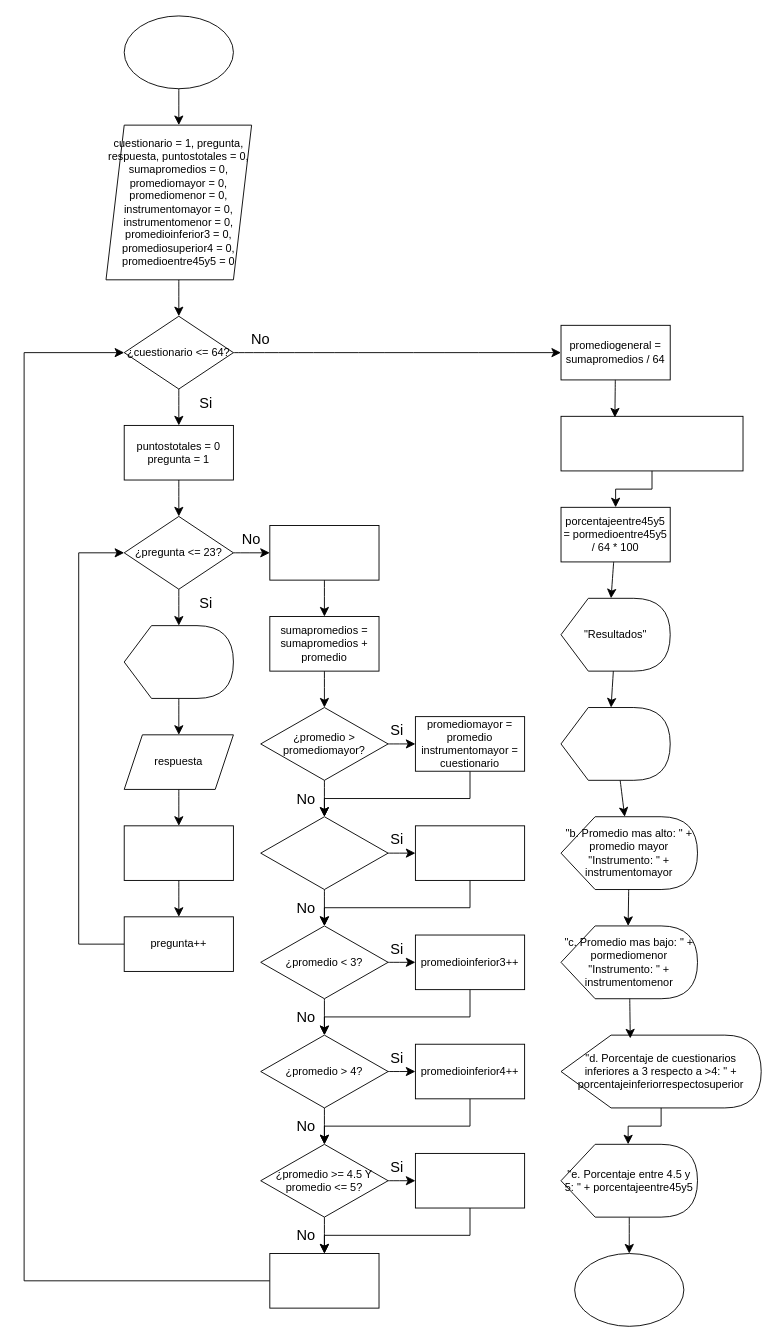
Some shapes in this 777 by 1342 pixel diagram are drawn without their labels. The shapes that lost their labels are listed below. From the top down, each one's box as (x1, y1, x2, y2) in pixels, then its label:
(123, 15, 233, 89): Inicio
(560, 415, 743, 471): porcentajeinferiorrespectosuperior = promedioinferior3 / promediosuperior4 * 100
(269, 525, 379, 580): promedio = puntostotales / 23
(123, 625, 233, 698): "cuenstionario x - pregunta x"
(560, 707, 670, 780): "a. Promedio general: " + promediogeneral
(123, 825, 233, 880): puntostotales = puntostotales + respuesta
(260, 816, 388, 890): ¿promedio > promediomenor?
(415, 825, 525, 880): promediomenor = promedio instrumentomenor = ciestionario
(415, 1153, 525, 1208): promedioentre45y5++
(269, 1253, 379, 1308): cuestionario++
(574, 1253, 684, 1326): Fin
